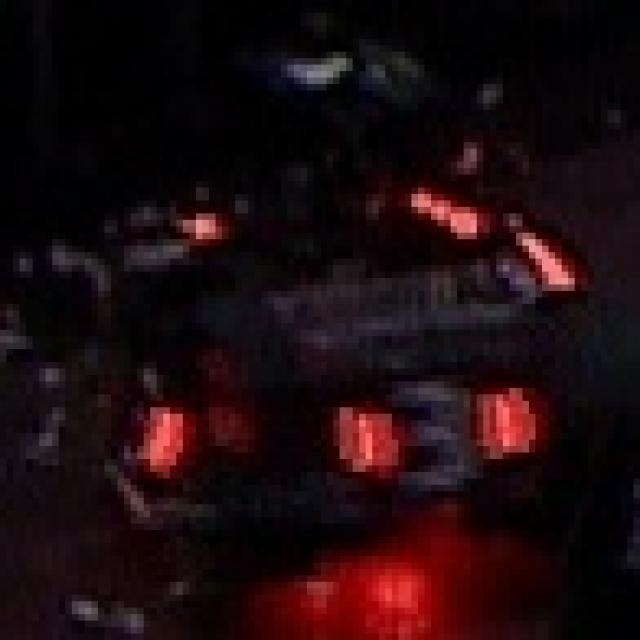R3: (340, 368, 529, 498)
